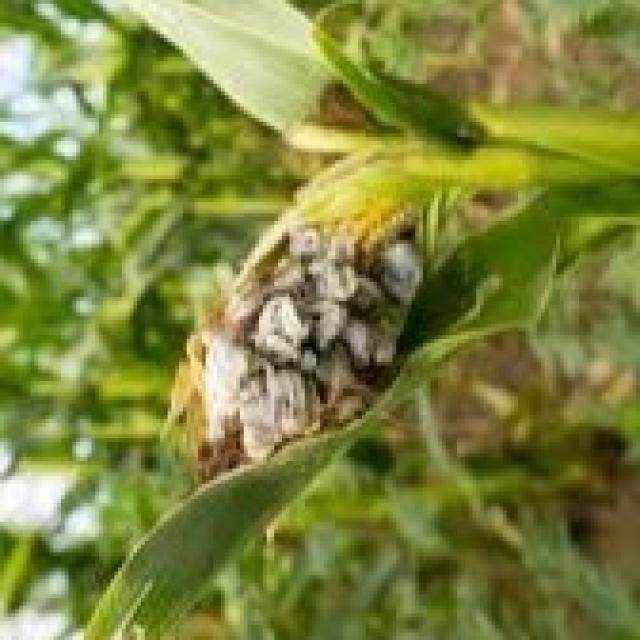Leaf_Scald: (119, 191, 501, 512)
